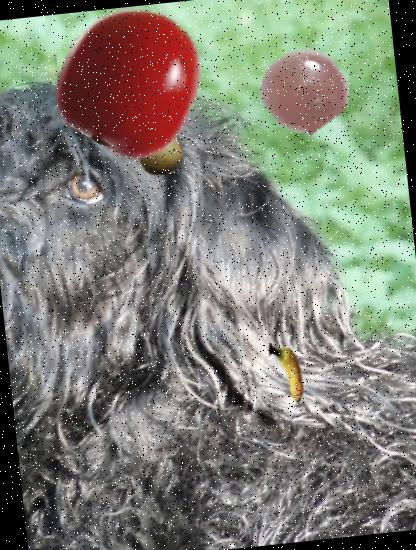Banana: (250, 336, 320, 406)
Pear: (127, 116, 190, 178)
Redcurrant: (258, 44, 351, 137)
Tomato: (52, 0, 210, 158)
